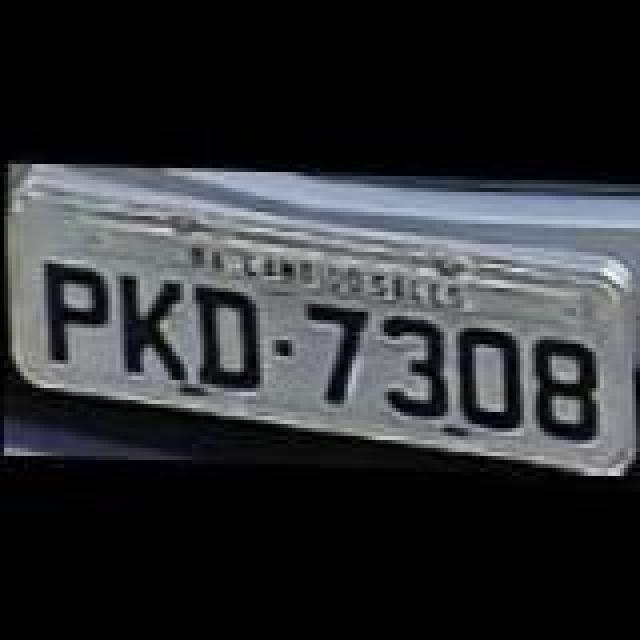3: (374, 310, 450, 426)
7: (294, 296, 362, 408)
8: (526, 330, 602, 446)
D: (186, 272, 266, 392)
K: (106, 268, 186, 384)
O: (450, 320, 526, 436)
P: (32, 260, 116, 364)
